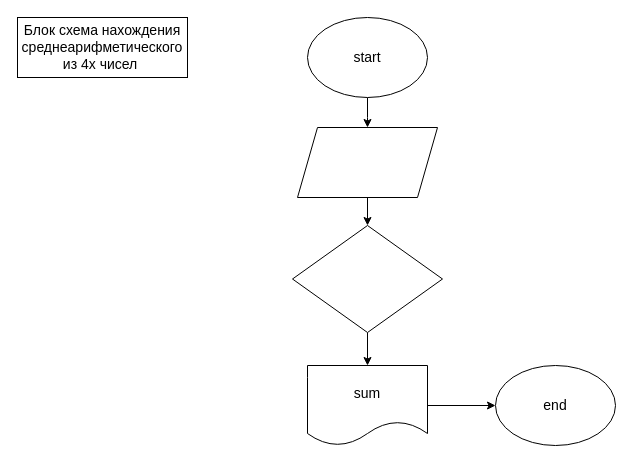
Image size: 633x463. Some labels were removed from this diagram. The shapes that lost their labels are listed below. From the top down, each one's centre as x and y in pixels, then its label:
the point at 367,162: a; b; c; d
the point at 367,278: sum = a+b+c+d sum = sum/4
